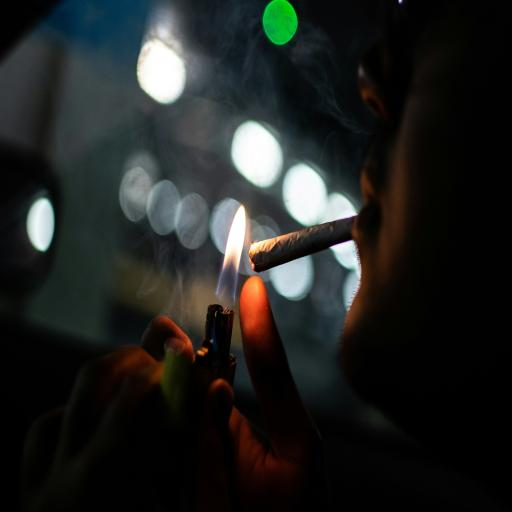lighter: (160, 171, 263, 403)
